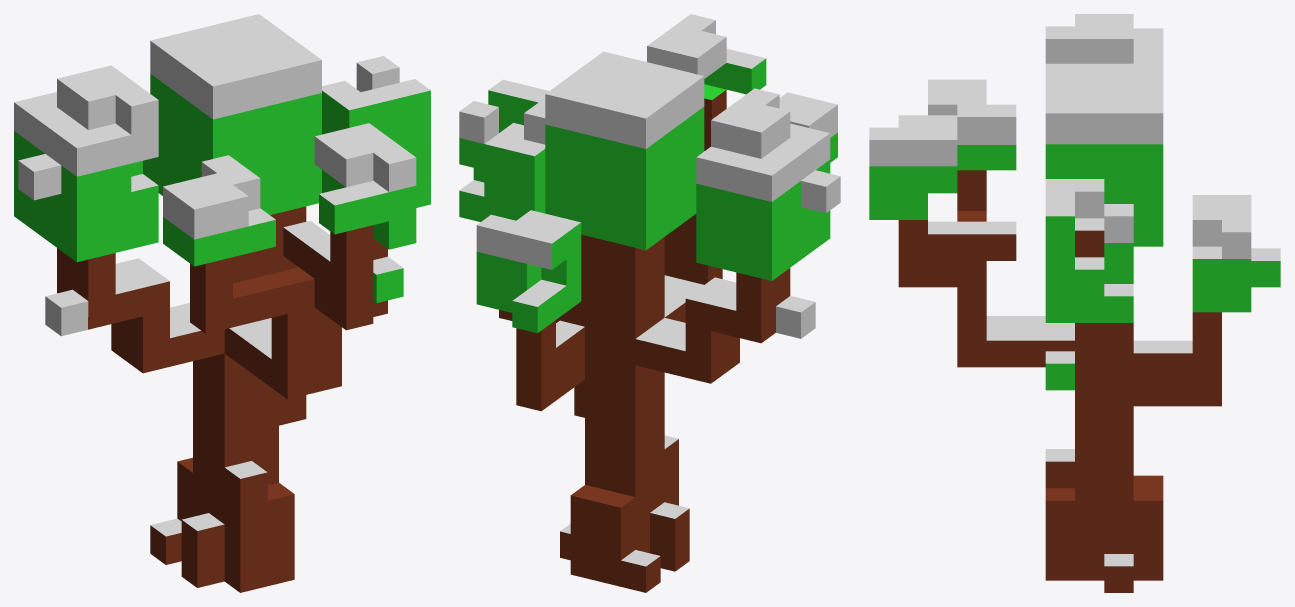
File: Normal_Tree_Snow.fbx
The picture shows the model from 3 angles, left to right: view 1: azimuth 30°, elevation 25°; view 2: azimuth 150°, elevation 25°; view 3: azimuth 270°, elevation 25°; orthographic projection. The views are drawn at different scales.
Visible parts, largest first — view 1: normal tree; view 2: normal tree; view 3: normal tree.
Part boxes in pixels (box(x1,y1,x2,y2)): normal tree: box(14, 14, 430, 592); normal tree: box(459, 14, 840, 592); normal tree: box(869, 14, 1280, 592).
Size of the model in its own units: 71.59 by 92.04 by 71.59.
